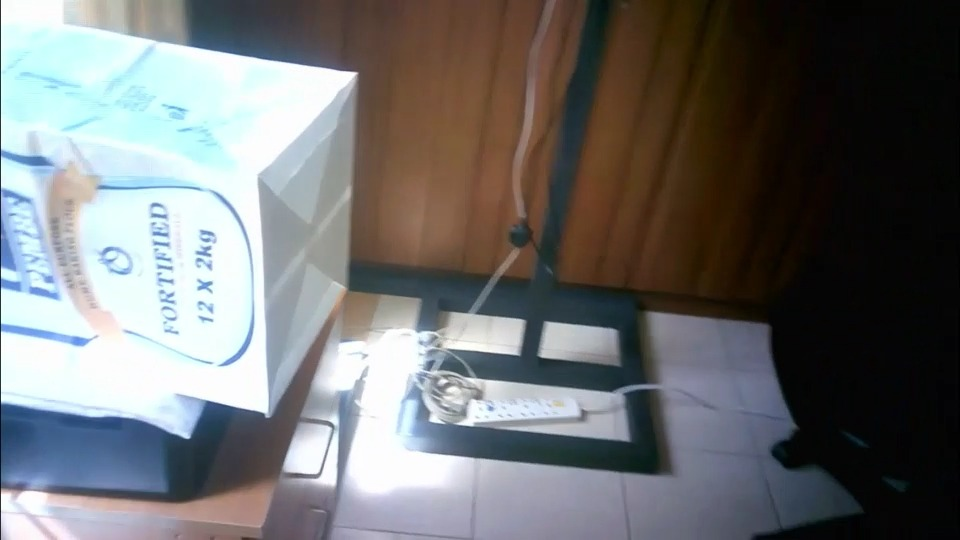wheat_flour_blue_label: (0, 28, 356, 417)
